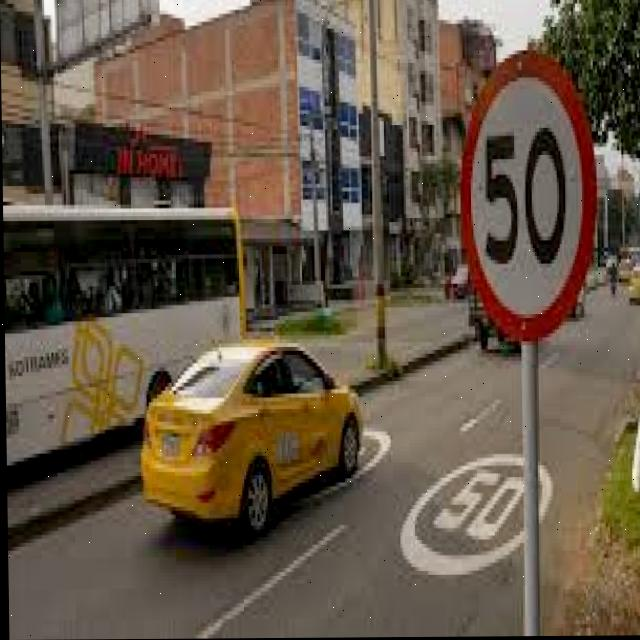Speed limit 50: (455, 44, 601, 344), (394, 440, 556, 580)
